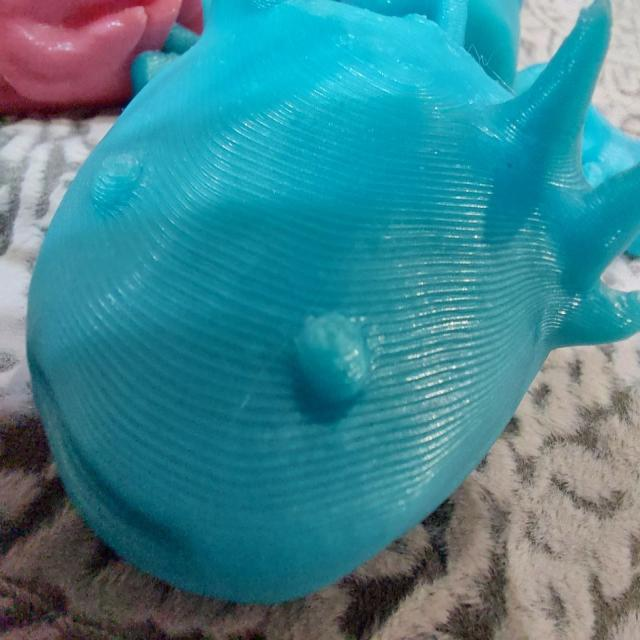Without deffect: (16, 0, 640, 612)
